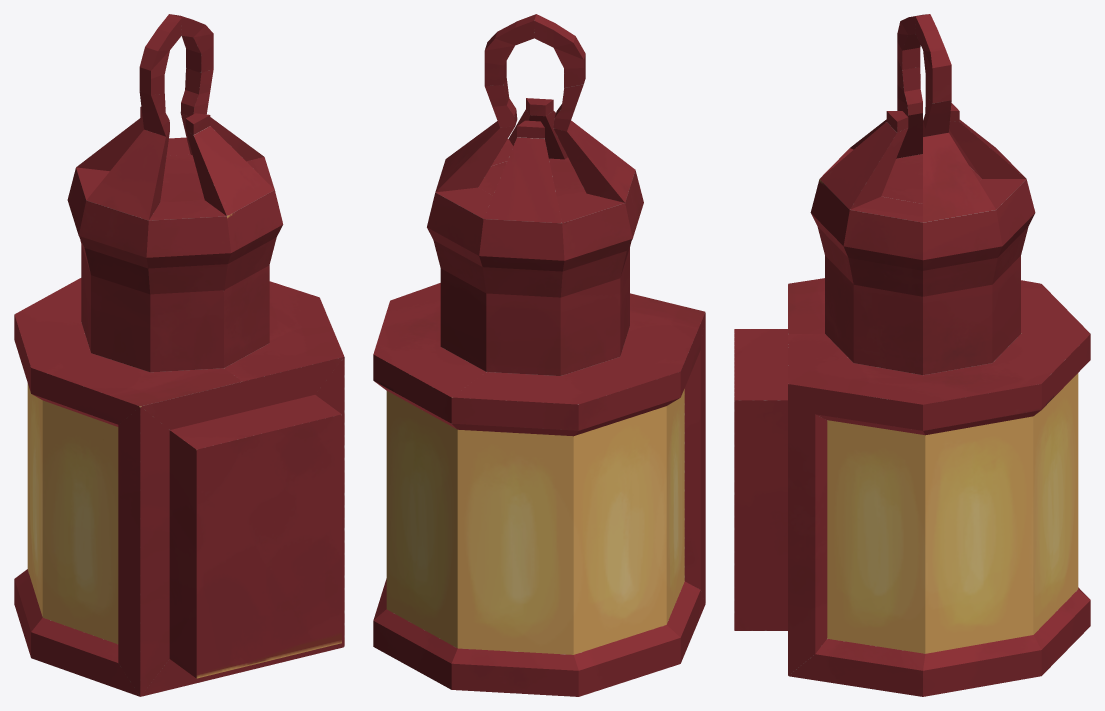
The model's file is Lantern.fbx.
The picture shows the model from 3 angles, left to right: view 1: azimuth 30°, elevation 25°; view 2: azimuth 150°, elevation 25°; view 3: azimuth 270°, elevation 25°; orthographic projection.
Parts seen in each view (by area): view 1: Lantern; view 2: Lantern; view 3: Lantern.
Boxes of the visible parts, left/top/right/bottom form: Lantern: left=14, top=14, right=344, bottom=696; Lantern: left=373, top=14, right=705, bottom=696; Lantern: left=734, top=14, right=1090, bottom=696.
Bounding box in the file's own units: 18.05 × 36.28 × 19.19.
